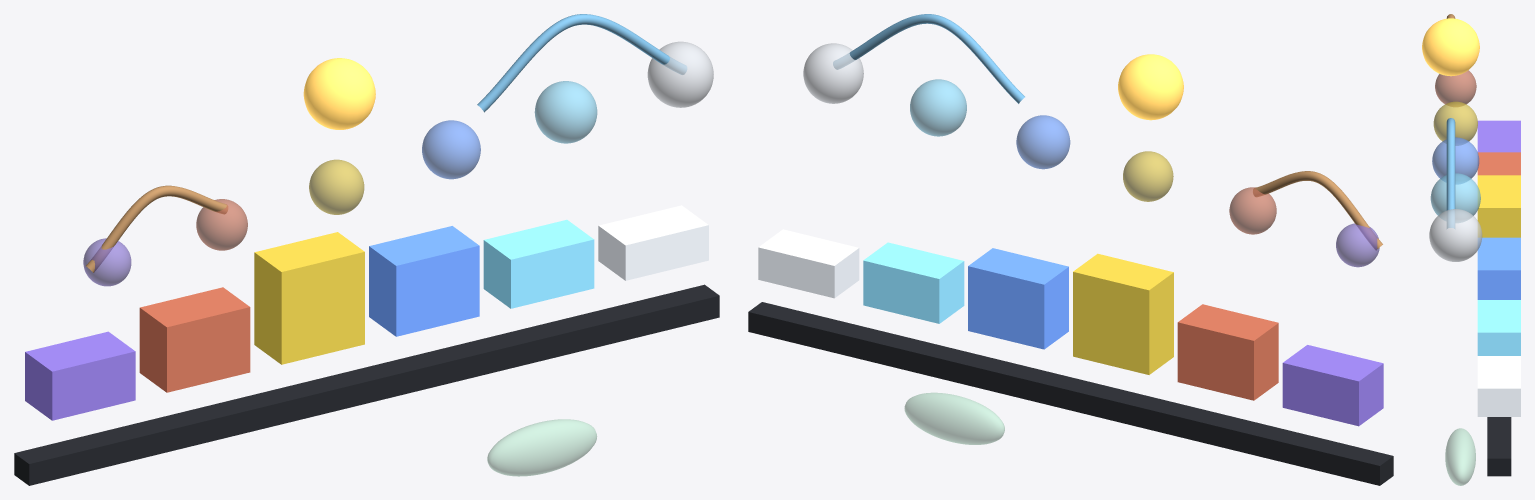
Rendered from wavelength-comparison-authored.glb.
3 renders of one model, left to right at view 1: azimuth 30°, elevation 25°; view 2: azimuth 150°, elevation 25°; view 3: azimuth 270°, elevation 25°, orthographic. The views are drawn at different scales.
Visible parts, largest first — view 1: multiwavelength-dark-reference-rail, visible-band-green-yellow-core, uv-band-ultraviolet-marker, radio-infrared-infrared-band, xray-band-xray-marker, radio-infrared-radio-band, gamma-ray-short-wavelength-marker, false-colour-composite-data-stack, visible-band-star-field-anchor, gamma-ray-short-wavelength-marker-target-response, xray-band-xray-marker-target-response, hot-gas-short-wavelength-path (+5 smaller); view 2: multiwavelength-dark-reference-rail, visible-band-green-yellow-core, uv-band-ultraviolet-marker, radio-infrared-infrared-band, xray-band-xray-marker, radio-infrared-radio-band, gamma-ray-short-wavelength-marker, false-colour-composite-data-stack, visible-band-star-field-anchor, gamma-ray-short-wavelength-marker-target-response, xray-band-xray-marker-target-response, hot-gas-short-wavelength-path (+5 smaller); view 3: uv-band-ultraviolet-marker, visible-band-green-yellow-core, gamma-ray-short-wavelength-marker, visible-band-star-field-anchor, xray-band-xray-marker, gamma-ray-short-wavelength-marker-target-response, xray-band-xray-marker-target-response, multiwavelength-dark-reference-rail, radio-infrared-radio-band, false-colour-composite-data-stack, uv-band-ultraviolet-marker-target-response, visible-band-green-yellow-core-target-response (+3 smaller).
Boxes of the visible parts, x1,y1,x2,y2 form: multiwavelength-dark-reference-rail: [14, 284, 719, 485]; visible-band-green-yellow-core: [254, 232, 364, 364]; uv-band-ultraviolet-marker: [369, 226, 479, 336]; radio-infrared-infrared-band: [139, 287, 250, 392]; xray-band-xray-marker: [483, 219, 594, 308]; radio-infrared-radio-band: [25, 331, 135, 420]; gamma-ray-short-wavelength-marker: [598, 205, 708, 280]; false-colour-composite-data-stack: [487, 419, 596, 476]; visible-band-star-field-anchor: [303, 58, 375, 129]; gamma-ray-short-wavelength-marker-target-response: [647, 41, 713, 107]; xray-band-xray-marker-target-response: [534, 81, 597, 143]; hot-gas-short-wavelength-path: [477, 14, 686, 112]; multiwavelength-dark-reference-rail: [748, 302, 1393, 485]; visible-band-green-yellow-core: [1073, 253, 1173, 374]; uv-band-ultraviolet-marker: [968, 248, 1068, 349]; radio-infrared-infrared-band: [1177, 304, 1278, 400]; xray-band-xray-marker: [863, 242, 964, 323]; radio-infrared-radio-band: [1282, 345, 1383, 426]; gamma-ray-short-wavelength-marker: [758, 229, 859, 298]; false-colour-composite-data-stack: [904, 392, 1004, 444]; visible-band-star-field-anchor: [1118, 54, 1183, 120]; gamma-ray-short-wavelength-marker-target-response: [803, 43, 863, 103]; xray-band-xray-marker-target-response: [910, 79, 966, 136]; hot-gas-short-wavelength-path: [833, 14, 1024, 103]; uv-band-ultraviolet-marker: [1477, 237, 1520, 299]; visible-band-green-yellow-core: [1477, 175, 1520, 237]; gamma-ray-short-wavelength-marker: [1477, 356, 1520, 416]; visible-band-star-field-anchor: [1422, 18, 1479, 76]; xray-band-xray-marker: [1477, 300, 1520, 355]; gamma-ray-short-wavelength-marker-target-response: [1429, 209, 1482, 261]; xray-band-xray-marker-target-response: [1430, 173, 1480, 222]; multiwavelength-dark-reference-rail: [1487, 417, 1511, 476]; radio-infrared-radio-band: [1477, 120, 1520, 152]; false-colour-composite-data-stack: [1445, 428, 1475, 485]; uv-band-ultraviolet-marker-target-response: [1432, 137, 1479, 183]; visible-band-green-yellow-core-target-response: [1433, 101, 1477, 145].
Size of what is drawn, in the model's own units: 2.65 by 1.71 by 0.41.
